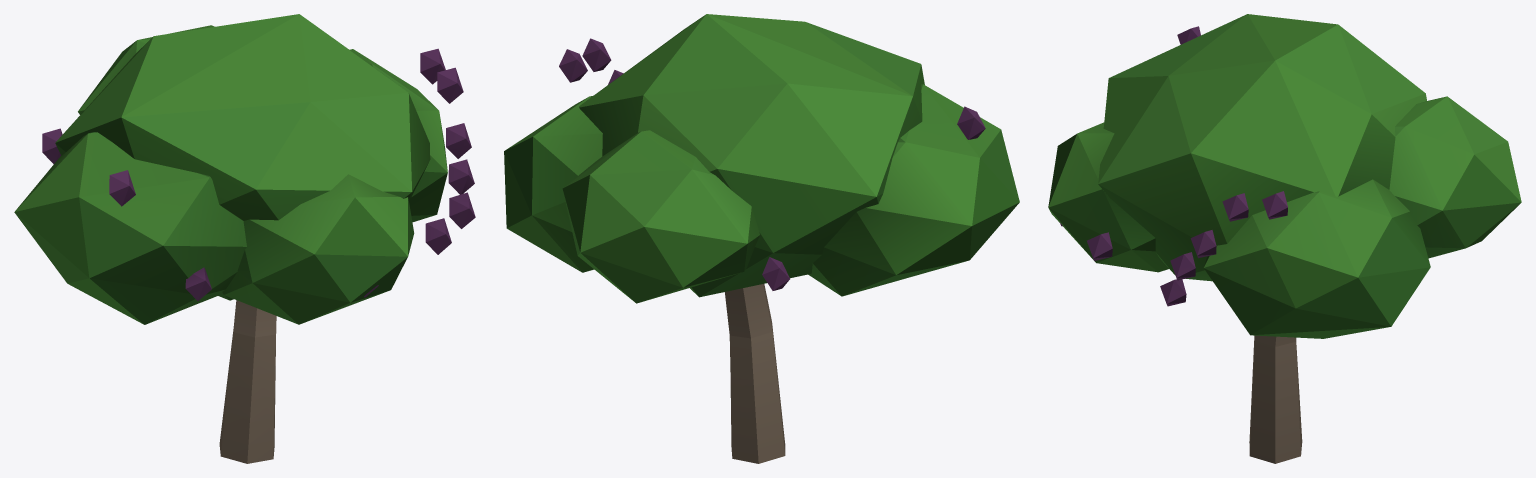
The model's file is figtree.glb.
3 views of the same model, side by side, from view 1: azimuth 30°, elevation 25°; view 2: azimuth 150°, elevation 25°; view 3: azimuth 270°, elevation 25° (orthographic). The views are drawn at different scales.
Parts seen in each view (by area): view 1: base; view 2: base; view 3: base.
Part boxes in pixels (bbox=[...]): base: bbox=[14, 14, 475, 463]; base: bbox=[504, 14, 1019, 463]; base: bbox=[1048, 14, 1521, 463].
Bounding box in the file's own units: 1.13 × 1.06 × 1.09.
